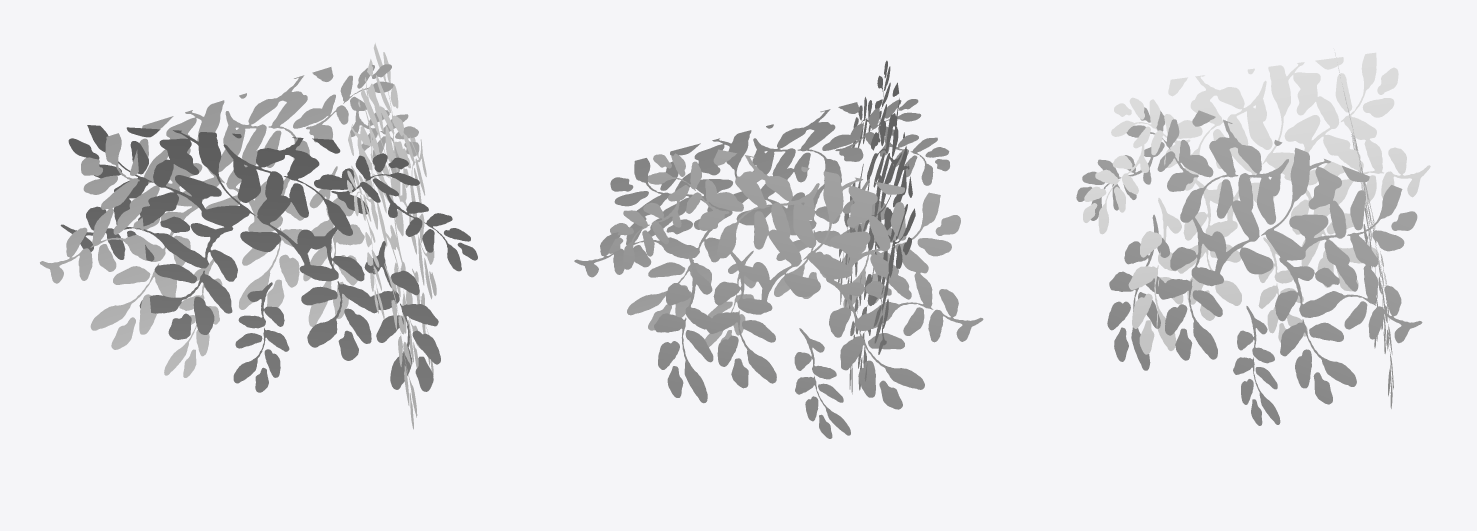
The model's file is grass_mono.fbx.
3 views of the same model, side by side, from view 1: azimuth 30°, elevation 25°; view 2: azimuth 150°, elevation 25°; view 3: azimuth 270°, elevation 25° (orthographic). The views are drawn at different scales.
Parts seen in each view (by area): view 1: grass_mono_LOD0; view 2: grass_mono_LOD0; view 3: grass_mono_LOD0.
Boxes of the visible parts, x1,y1,x2,y2 form: grass_mono_LOD0: (40,43,477,429); grass_mono_LOD0: (574,60,983,438); grass_mono_LOD0: (1076,52,1430,425).
Size of what is drawn, in the model's own units: 0.1367 by 0.1206 by 0.1071.
